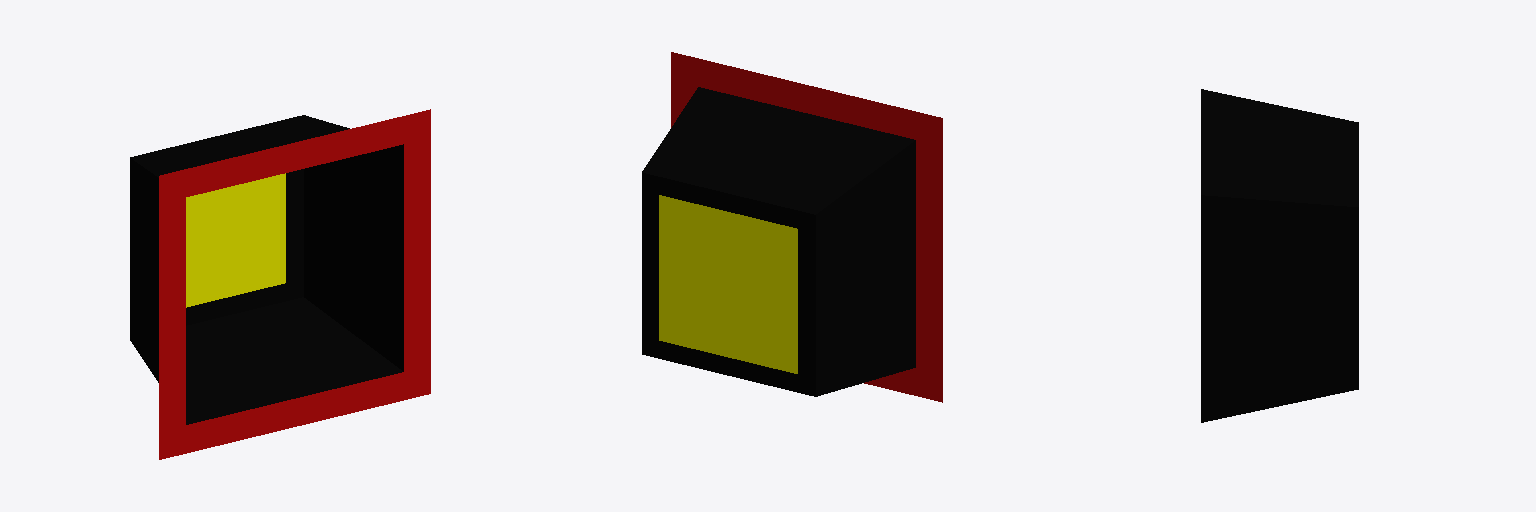
File: Engine.obj
3 views of the same model, side by side, from view 1: azimuth 30°, elevation 25°; view 2: azimuth 150°, elevation 25°; view 3: azimuth 270°, elevation 25° (orthographic).
Parts seen in each view (by area): view 1: Engine.000_Cube.023; view 2: Engine.000_Cube.023; view 3: Engine.000_Cube.023.
Part boxes in pixels (bbox=[...]): Engine.000_Cube.023: bbox=[130, 109, 430, 459]; Engine.000_Cube.023: bbox=[642, 52, 942, 402]; Engine.000_Cube.023: bbox=[1201, 89, 1358, 422].
Bounding box in the file's own units: 1 × 1 × 0.5.